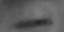LeftEyeFatigue: (8, 9, 57, 32)
